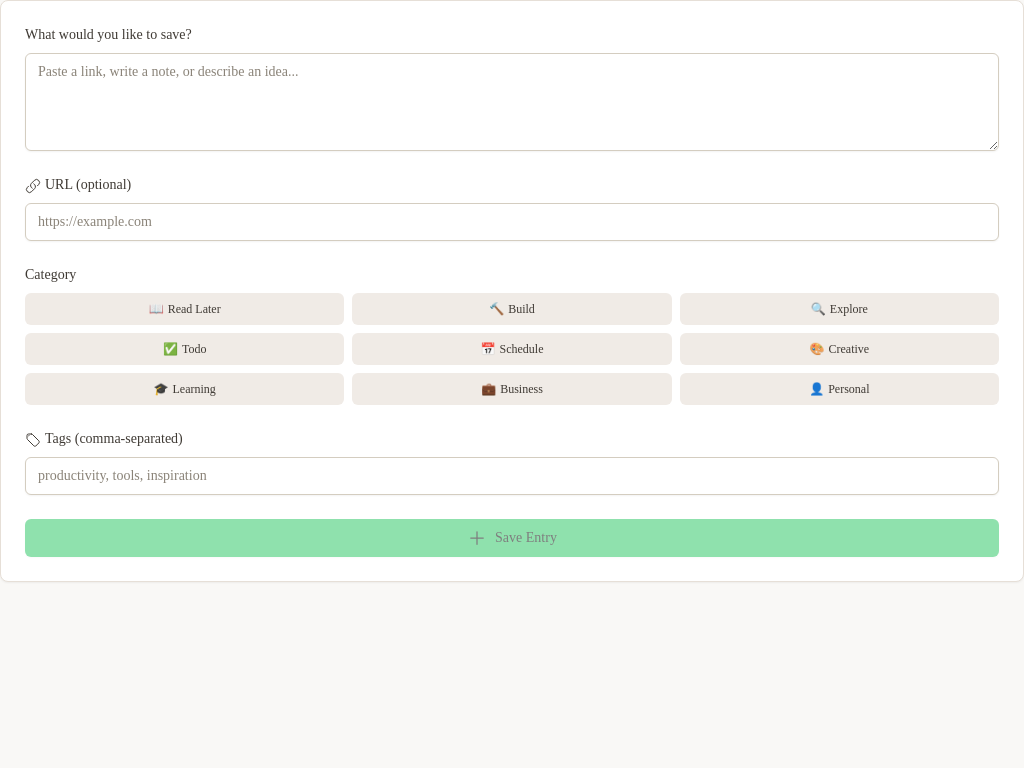
Test: EntryForm › shows loading state during submission
Type "Test content" into the text box with placeholder "Paste a link, write a note, or describe an idea..." at x=512, y=102, box [25, 53, 999, 151]
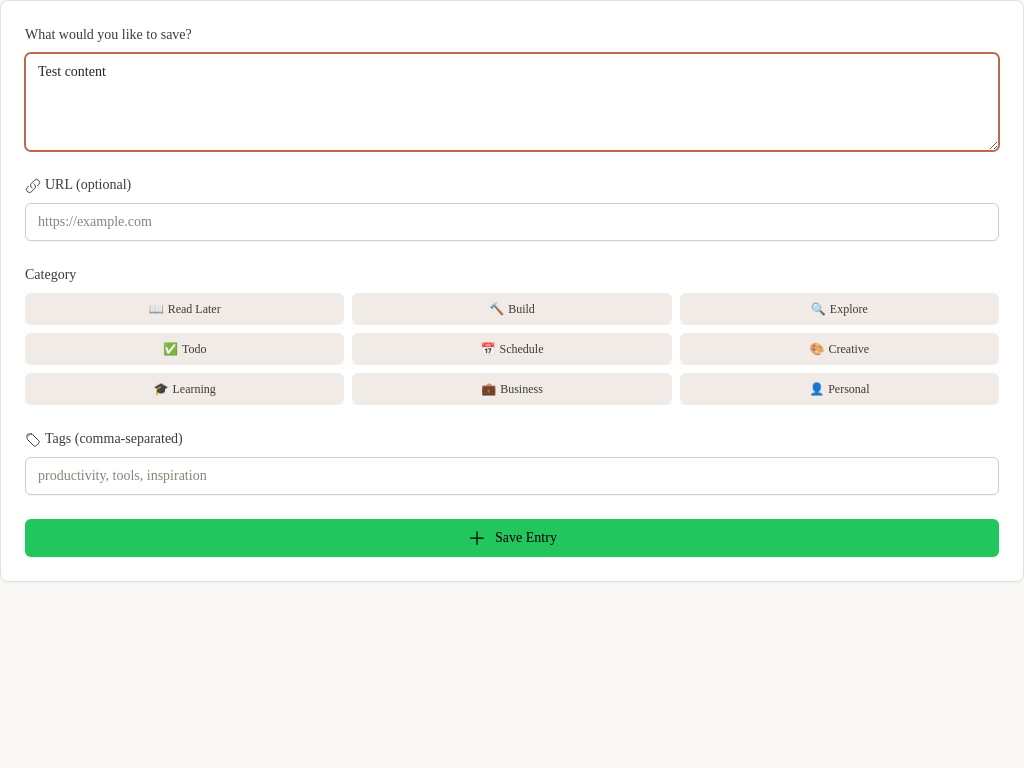
Click the button "Save Entry" at x=512, y=538, box [25, 519, 999, 557]
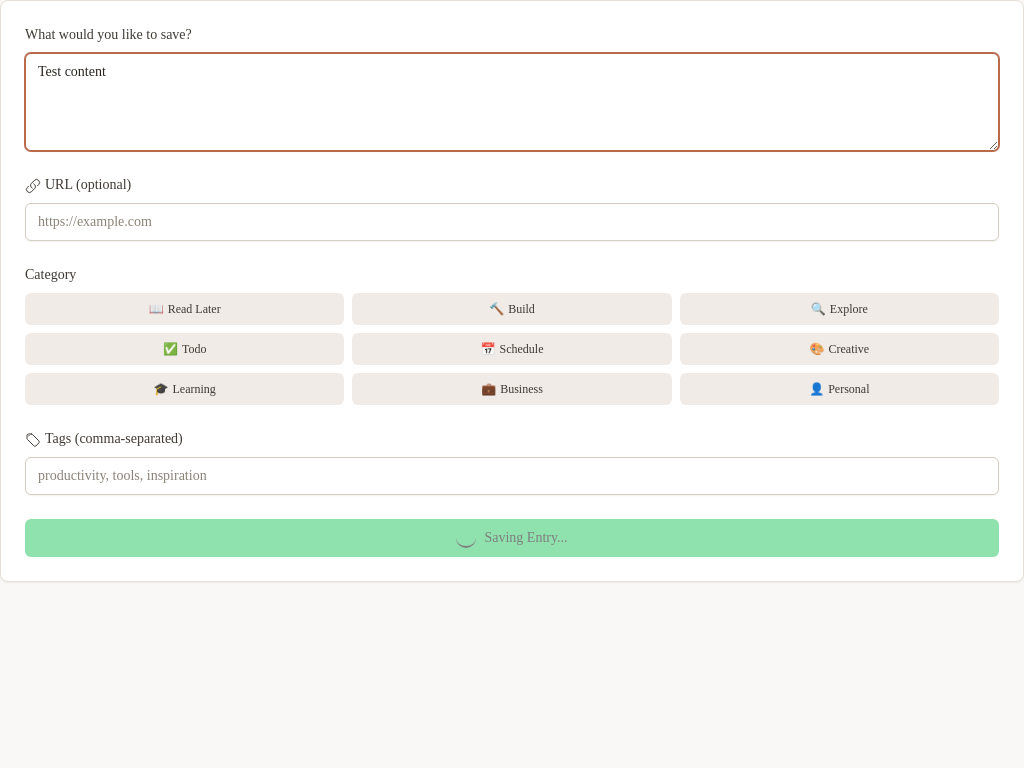
Expected: the text "Saving Entry..." is shown, [456, 528, 568, 548]
